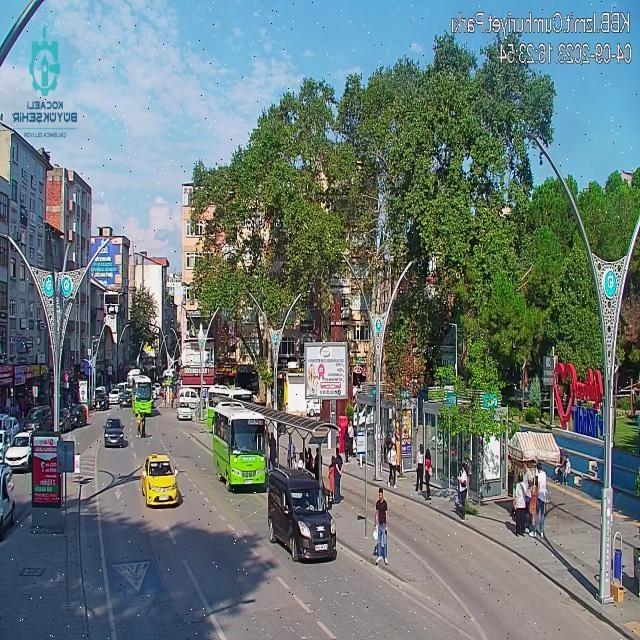Bus: (211, 406, 269, 492), (207, 395, 245, 431), (132, 374, 154, 416)
Car: (265, 464, 340, 564), (140, 454, 180, 506), (5, 430, 40, 470), (22, 405, 53, 432), (103, 418, 126, 446), (69, 405, 87, 426), (175, 401, 193, 421), (93, 392, 110, 411), (58, 407, 71, 431), (6, 416, 21, 432), (120, 390, 134, 407), (108, 388, 122, 404)
Van: (177, 387, 201, 404), (125, 368, 142, 382)
